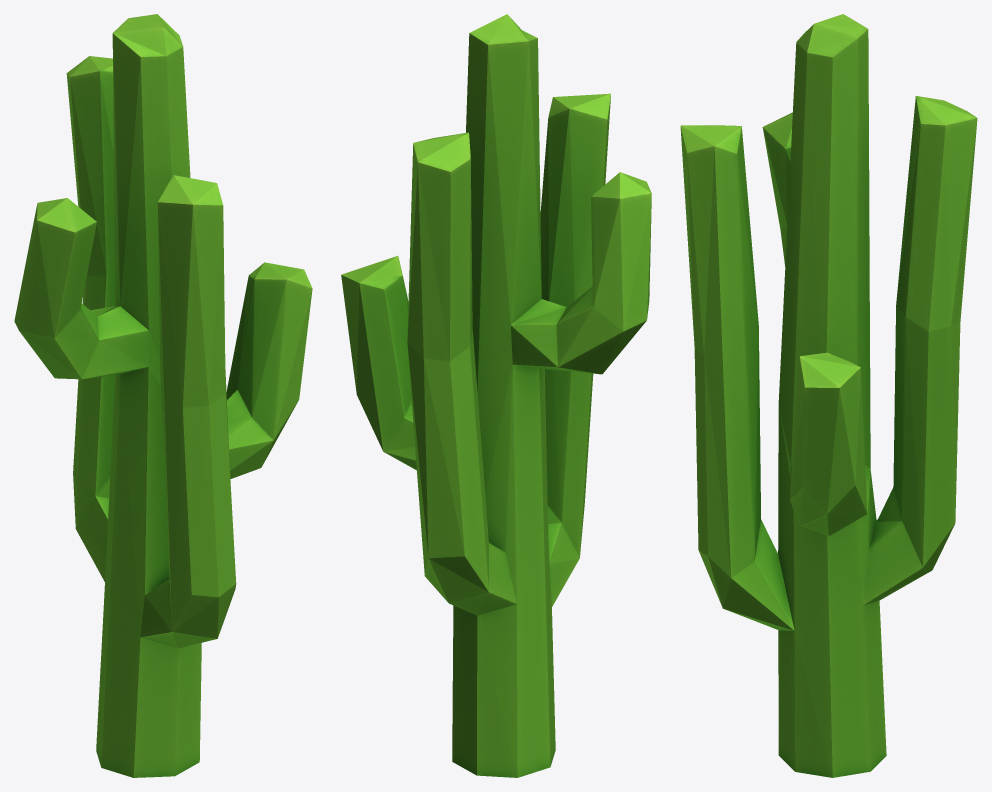
The model's file is Cactus_13.fbx.
3 views of the same model, side by side, from view 1: azimuth 30°, elevation 25°; view 2: azimuth 150°, elevation 25°; view 3: azimuth 270°, elevation 25° (orthographic).
Parts seen in each view (by area): view 1: Cactus_13; view 2: Cactus_13; view 3: Cactus_13.
Boxes of the visible parts, x1,y1,x2,y2 form: Cactus_13: [14, 14, 312, 777]; Cactus_13: [341, 14, 651, 777]; Cactus_13: [680, 14, 977, 777].
Size of the model in its own units: 46.9 by 111 by 40.78.
